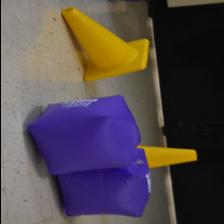cone: (60, 6, 149, 82), (135, 144, 197, 168)
cube: (25, 95, 141, 175), (57, 148, 152, 218)
